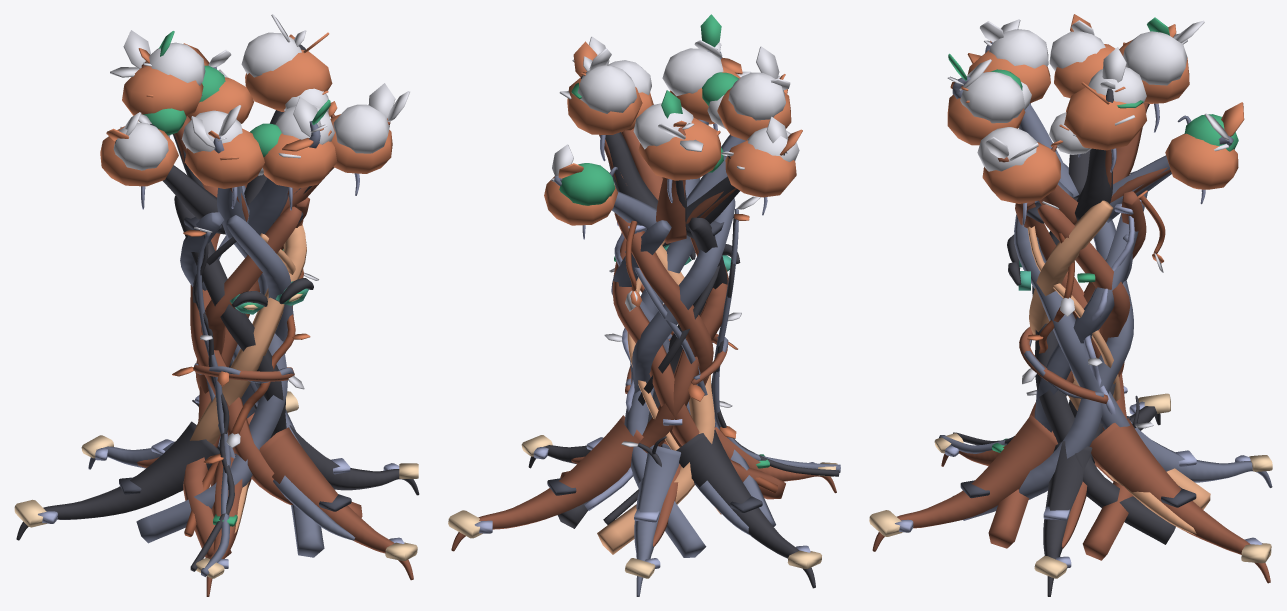
File: sentry.glb
3 views of the same model, side by side, from view 1: azimuth 30°, elevation 25°; view 2: azimuth 150°, elevation 25°; view 3: azimuth 270°, elevation 25° (orthographic). The views are drawn at different scales.
Parts seen in each view (by area): view 1: trunk, claw-0, claw-4, buttress-0, claw-2, claw-6, buttress-4, claw-5, claw-1, buttress-1, claw-3, buttress-5 (+2 smaller); view 2: trunk, claw-4, claw-2, buttress-2, buttress-4, claw-5, claw-6, claw-3, claw-0, buttress-3, claw-1, buttress-1 (+1 smaller); view 3: trunk, claw-2, buttress-2, buttress-0, claw-3, claw-1, claw-4, claw-0, claw-6, buttress-1, claw-5, buttress-3 (+3 smaller).
Boxes of the visible parts, x1,y1,x2,y2 form: trunk: (134,184,362,576); claw-0: (248,96,337,235); claw-4: (110,30,217,197); buttress-0: (259,427,417,580); claw-2: (241,14,332,205); claw-6: (181,105,264,239); buttress-4: (14,421,219,540); claw-5: (100,112,225,234); claw-1: (280,83,409,214); buttress-1: (289,425,419,495); claw-3: (183,43,253,198); buttress-5: (196,455,251,596); trunk: (557,196,840,557); claw-4: (633,90,723,243); claw-2: (559,41,657,209); buttress-2: (448,415,643,551); buttress-4: (676,429,821,588); claw-5: (686,116,802,238); claw-6: (686,46,791,206); claw-3: (544,144,656,239); claw-0: (662,14,751,198); buttress-3: (625,445,680,596); claw-1: (572,36,663,200); buttress-1: (521,435,662,468); trunk: (939,163,1210,560); claw-2: (1049,47,1146,221); buttress-2: (1089,418,1271,583); buttress-0: (869,415,1057,551); claw-3: (1106,102,1244,222); claw-1: (977,127,1078,226); claw-4: (1112,17,1204,184); claw-0: (947,53,1073,202); claw-6: (967,19,1078,197); buttress-1: (1034,441,1094,596); claw-5: (1049,14,1115,200); buttress-3: (1130,420,1272,487).
Size of the model in its own units: 4.16 by 5.46 by 4.03.
